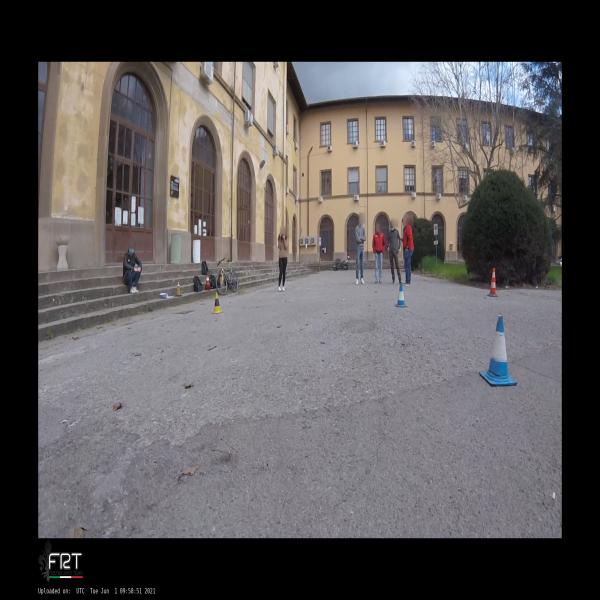blue_cone: (480, 316, 517, 385), (395, 284, 407, 307)
large_orange_cone: (488, 268, 498, 297)
orange_cone: (205, 272, 210, 284)
unknown_cone: (175, 282, 182, 296)
yellow_cone: (212, 292, 223, 314)
